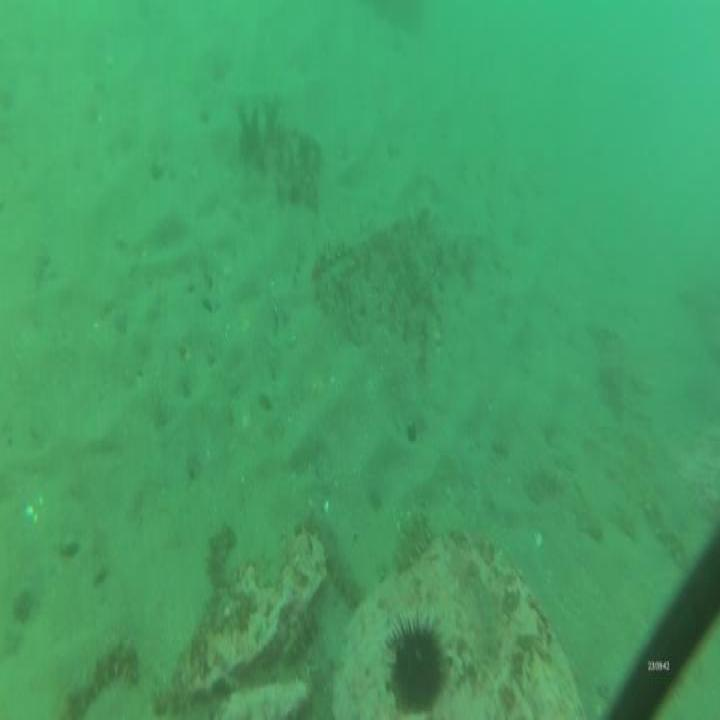echinus: (376, 608, 457, 718)
holothurian: (64, 630, 138, 710), (312, 512, 367, 615), (392, 507, 435, 569), (205, 519, 237, 594)
